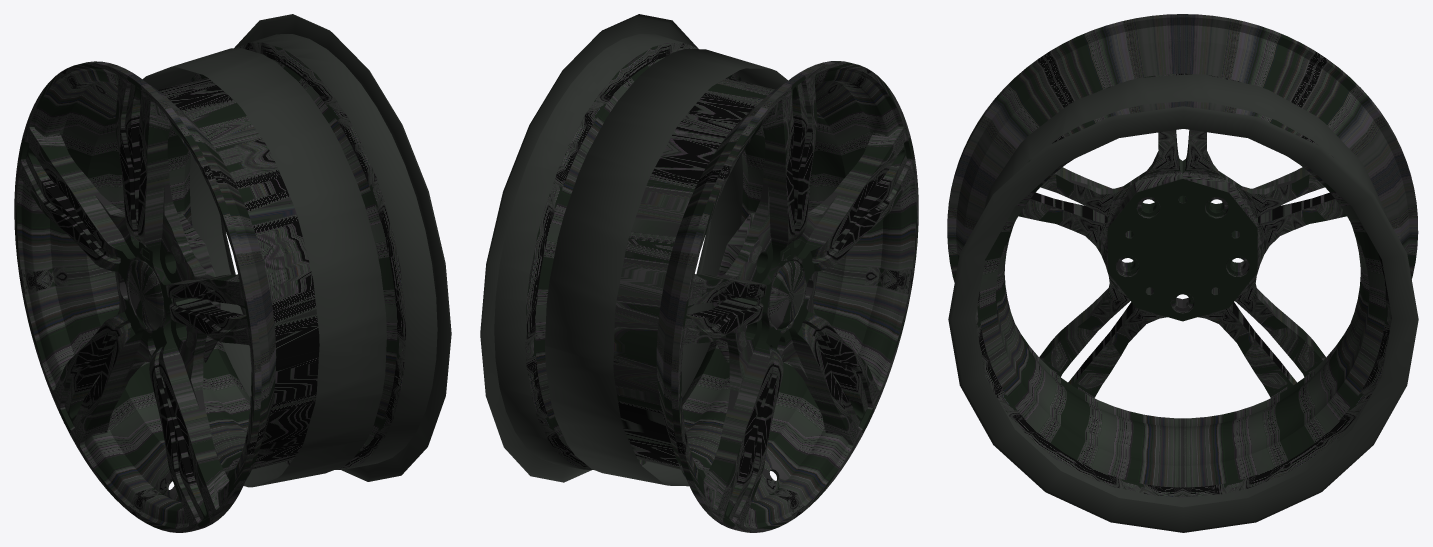
The model's file is frontleft1.glb.
3 views of the same model, side by side, from view 1: azimuth 30°, elevation 25°; view 2: azimuth 150°, elevation 25°; view 3: azimuth 270°, elevation 25° (orthographic). The views are drawn at different scales.
Parts seen in each view (by area): view 1: Front Left WHeel; view 2: Front Left WHeel; view 3: Front Left WHeel.
Part boxes in pixels (x1,y1,x2,y2): Front Left WHeel: (14,14,451,532); Front Left WHeel: (480,14,918,532); Front Left WHeel: (947,14,1418,532).
Bounding box in the file's own units: 0.278 × 0.5726 × 0.5714.
1 material, 1 textured.
